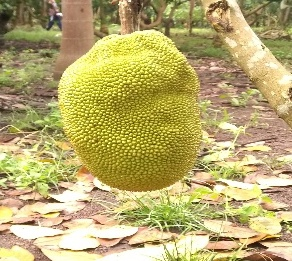Mit: (58, 33, 206, 189)
